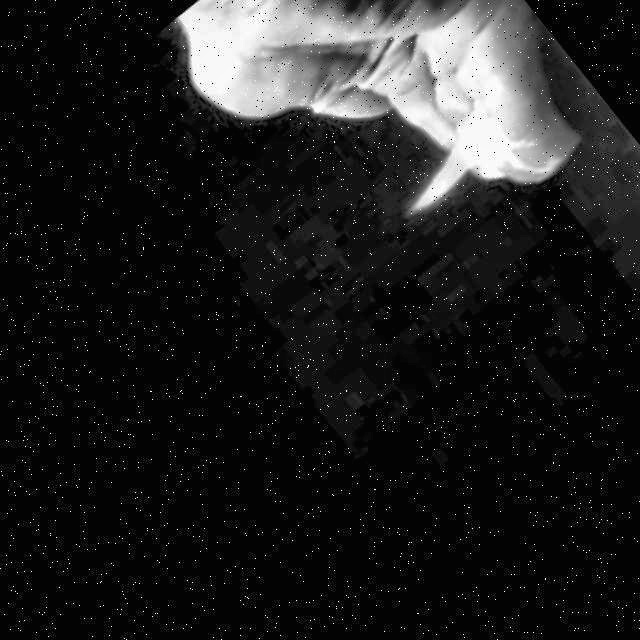Fire: (381, 132, 495, 231)
